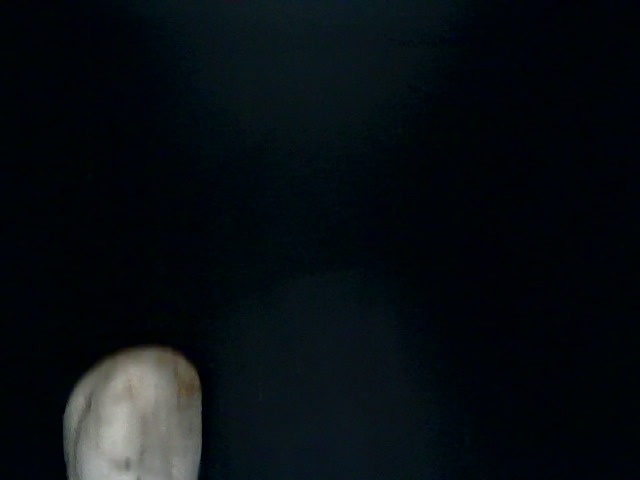QTLJ: (105, 48, 358, 258)
